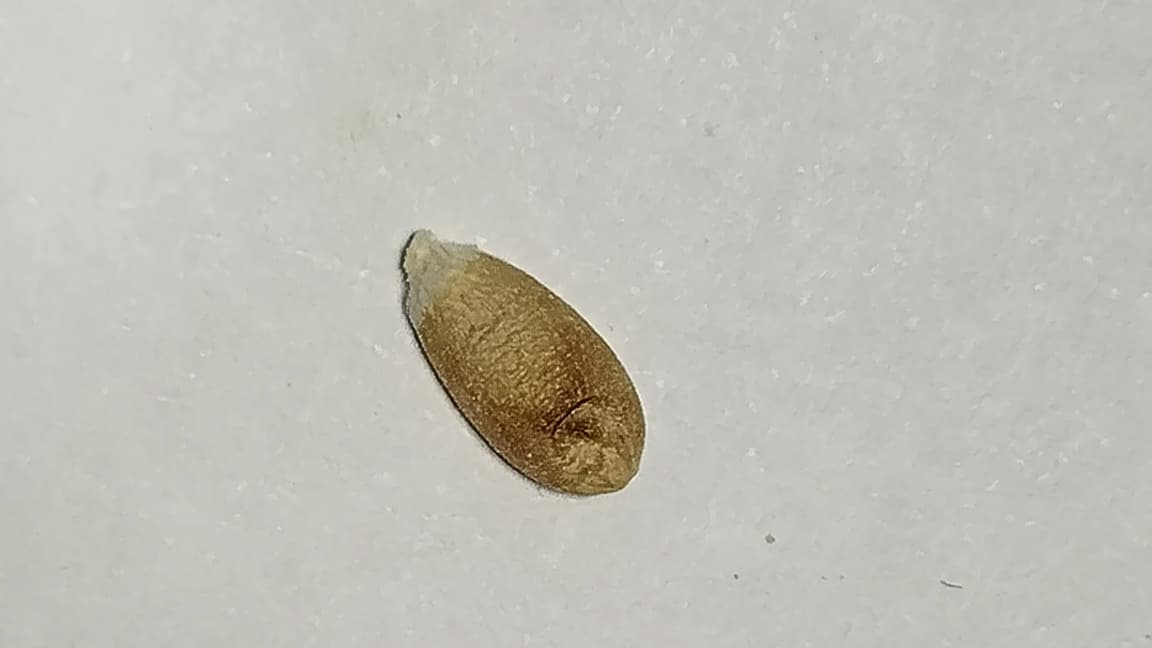damage: (403, 231, 644, 494)
insectdamage: (503, 356, 621, 468)
